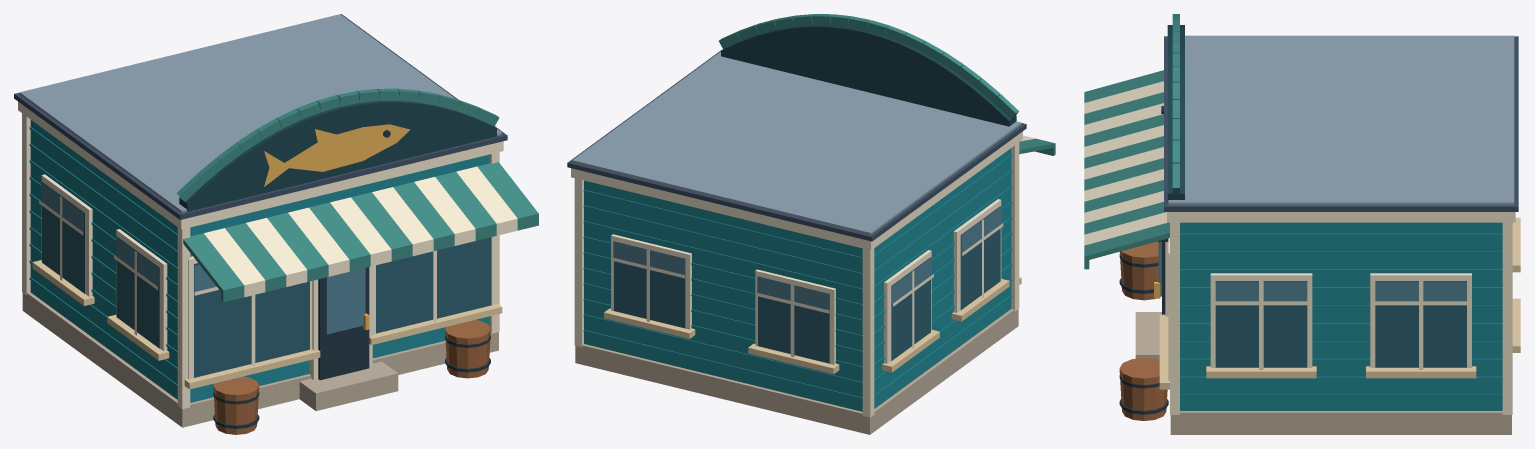
File: sound_fish_market.glb
3 views of the same model, side by side, from view 1: azimuth 30°, elevation 25°; view 2: azimuth 150°, elevation 25°; view 3: azimuth 270°, elevation 25° (orthographic). The views are drawn at different scales.
Parts seen in each view (by area): view 1: sound_fish_market; view 2: sound_fish_market; view 3: sound_fish_market.
Boxes of the visible parts, x1,y1,x2,y2 form: sound_fish_market: (14, 14, 538, 434); sound_fish_market: (567, 14, 1055, 434); sound_fish_market: (1084, 14, 1520, 434).
Bounding box in the file's own units: 6.62 × 5.57 × 7.08.
